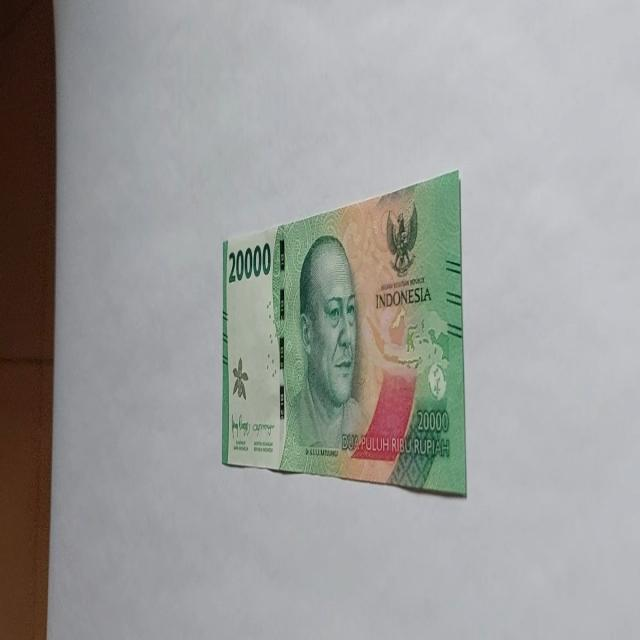dua puluh ribu rupiah: (220, 168, 467, 497), (280, 232, 372, 472)
